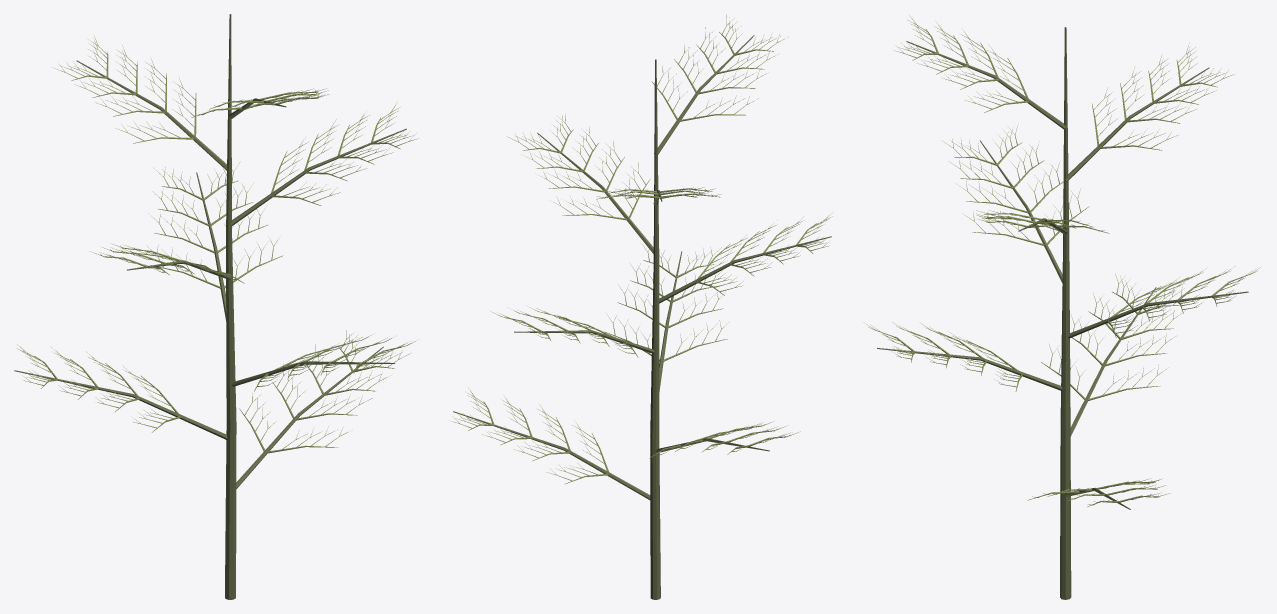
3 renders of one model, left to right at view 1: azimuth 30°, elevation 25°; view 2: azimuth 150°, elevation 25°; view 3: azimuth 270°, elevation 25°, orthographic. The views are drawn at different scales.
Visible parts, largest first — view 1: open-bipinnate-nonlaminate-framework; view 2: open-bipinnate-nonlaminate-framework; view 3: open-bipinnate-nonlaminate-framework.
Part boxes in pixels (x1,y1,x2,y2): open-bipinnate-nonlaminate-framework: (14,14,418,599); open-bipinnate-nonlaminate-framework: (449,14,832,599); open-bipinnate-nonlaminate-framework: (863,15,1261,599).
Size of the model in its own units: 0.6737 by 1 by 0.6353.
